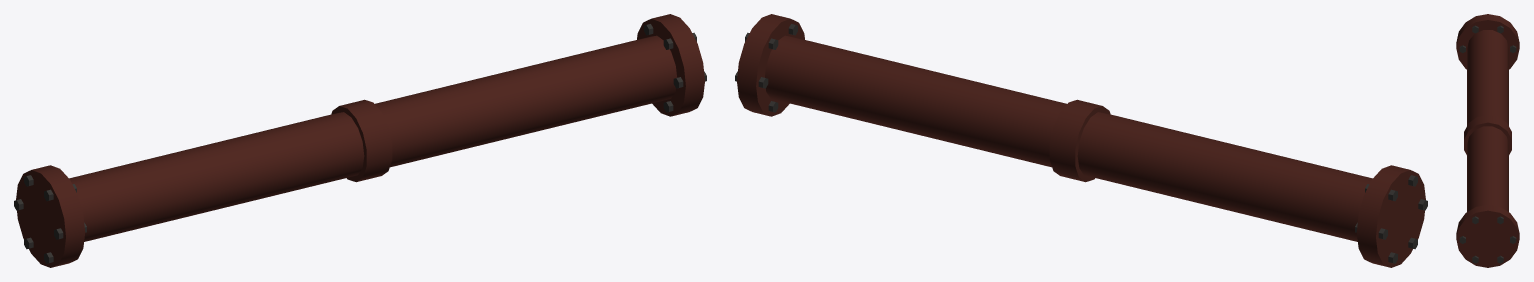
Rendered from PipeStraight.fbx.
3 views of the same model, side by side, from view 1: azimuth 30°, elevation 25°; view 2: azimuth 150°, elevation 25°; view 3: azimuth 270°, elevation 25° (orthographic). The views are drawn at different scales.
Parts seen in each view (by area): view 1: PipeStraight_Pipe, PipeStraight_Bolts; view 2: PipeStraight_Pipe, PipeStraight_Bolts; view 3: PipeStraight_Pipe, PipeStraight_Bolts.
Part boxes in pixels (left/top/right/bottom): PipeStraight_Pipe: left=16, top=14, right=704, bottom=267; PipeStraight_Bolts: left=14, top=24, right=706, bottom=263; PipeStraight_Pipe: left=737, top=14, right=1425, bottom=267; PipeStraight_Bolts: left=735, top=24, right=1427, bottom=263; PipeStraight_Pipe: left=1456, top=14, right=1519, bottom=267; PipeStraight_Bolts: left=1459, top=25, right=1516, bottom=263.
Size of the model in its own units: 1.01 by 0.136 by 0.136.
